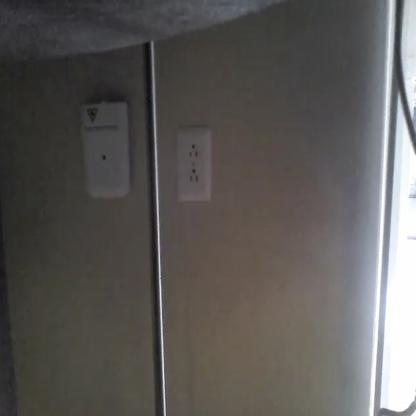OUTLET: (176, 126, 212, 201)
